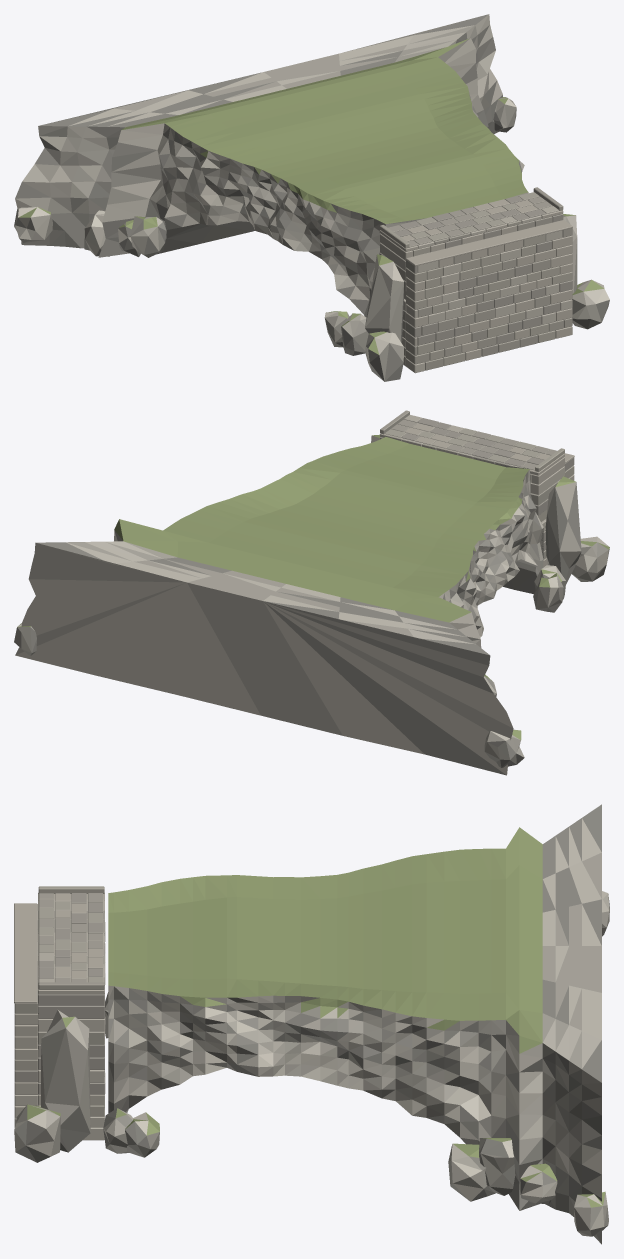
File: cape-v9.glb
3 views of the same model, one above another, from view 1: azimuth 30°, elevation 25°; view 2: azimuth 150°, elevation 25°; view 3: azimuth 270°, elevation 25° (orthographic). The views are drawn at different scales.
Parts seen in each view (by area): view 1: Cape_Arch, Cape_Abutment, Cape_Footing_Rocks; view 2: Cape_Arch, Cape_Footing_Rocks, Cape_Abutment; view 3: Cape_Arch, Cape_Footing_Rocks, Cape_Abutment.
Boxes of the visible parts, x1=… form: Cape_Arch: x1=15, y1=14, x2=528, y2=317; Cape_Abutment: x1=379, y1=187, x2=572, y2=373; Cape_Footing_Rocks: x1=14, y1=97, x2=609, y2=381; Cape_Arch: x1=15, y1=437, x2=543, y2=775; Cape_Footing_Rocks: x1=14, y1=434, x2=609, y2=767; Cape_Abutment: x1=380, y1=410, x2=574, y2=567; Cape_Arch: x1=108, y1=804, x2=601, y2=1244; Cape_Footing_Rocks: x1=14, y1=891, x2=609, y2=1236; Cape_Abutment: x1=14, y1=886, x2=105, y2=1140.
Bounding box in the file's own units: 58.51 × 15.08 × 47.35.
